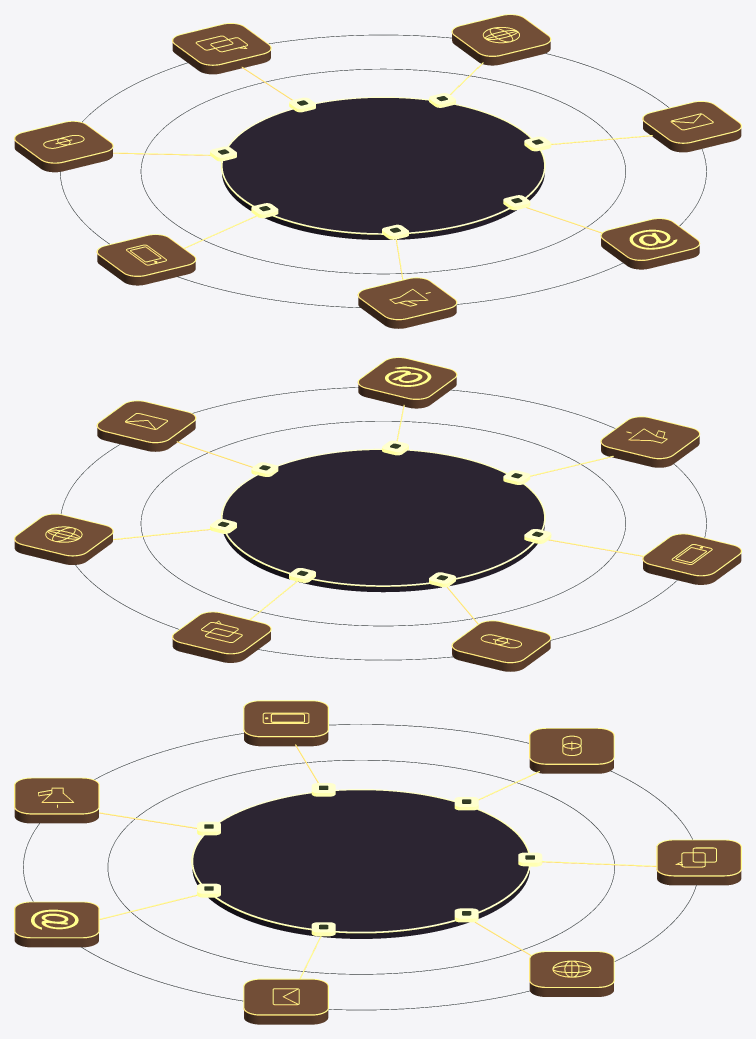
Rendered from hub-network.glb.
3 views of the same model, one above another, from view 1: azimuth 30°, elevation 25°; view 2: azimuth 150°, elevation 25°; view 3: azimuth 270°, elevation 25° (orthographic). The views are drawn at different scales.
Visible parts, largest first — view 1: Hub_Plate, Email_Body, Paid_Ads_Body, URLs_Body, Telco_Body, Messages_Body, Domains_Body, Social_Media_Body, Orbit_Inner, Hub_Lime_Rim, Orbit_Outer; view 2: Hub_Plate, Paid_Ads_Body, Email_Body, URLs_Body, Messages_Body, Telco_Body, Domains_Body, Social_Media_Body, Orbit_Inner, Hub_Lime_Rim, Orbit_Outer; view 3: Hub_Plate, Email_Body, Messages_Body, Paid_Ads_Body, URLs_Body, Telco_Body, Domains_Body, Social_Media_Body, Hub_Lime_Rim, Orbit_Inner, Orbit_Outer.
Boxes of the visible parts, bbox=[...] form: Hub_Plate: bbox=[222, 98, 544, 239]; Email_Body: bbox=[643, 102, 741, 152]; Paid_Ads_Body: bbox=[358, 278, 456, 328]; URLs_Body: bbox=[14, 121, 112, 172]; Telco_Body: bbox=[97, 235, 195, 285]; Messages_Body: bbox=[172, 24, 270, 74]; Domains_Body: bbox=[452, 15, 550, 65]; Social_Media_Body: bbox=[601, 219, 699, 269]; Orbit_Inner: bbox=[140, 68, 625, 274]; Hub_Lime_Rim: bbox=[221, 96, 545, 234]; Orbit_Outer: bbox=[60, 34, 706, 307]; Hub_Plate: bbox=[222, 450, 544, 592]; Paid_Ads_Body: bbox=[601, 417, 699, 467]; Email_Body: bbox=[97, 401, 195, 451]; URLs_Body: bbox=[452, 621, 550, 671]; Messages_Body: bbox=[172, 612, 270, 662]; Telco_Body: bbox=[643, 534, 741, 584]; Domains_Body: bbox=[14, 514, 112, 564]; Social_Media_Body: bbox=[358, 358, 456, 408]; Orbit_Inner: bbox=[140, 421, 625, 626]; Hub_Lime_Rim: bbox=[221, 448, 545, 586]; Orbit_Outer: bbox=[61, 387, 706, 660]; Hub_Plate: bbox=[192, 790, 529, 938]; Email_Body: bbox=[244, 979, 328, 1024]; Messages_Body: bbox=[657, 840, 741, 885]; Paid_Ads_Body: bbox=[14, 778, 98, 823]; URLs_Body: bbox=[529, 728, 613, 773]; Telco_Body: bbox=[244, 701, 328, 746]; Domains_Body: bbox=[529, 952, 613, 996]; Social_Media_Body: bbox=[14, 902, 98, 947]; Hub_Lime_Rim: bbox=[191, 789, 530, 933]; Orbit_Inner: bbox=[107, 760, 614, 974]; Orbit_Outer: bbox=[23, 724, 696, 1010].
Bounding box in the file's own units: 2.69 × 0.0419 × 2.63.
